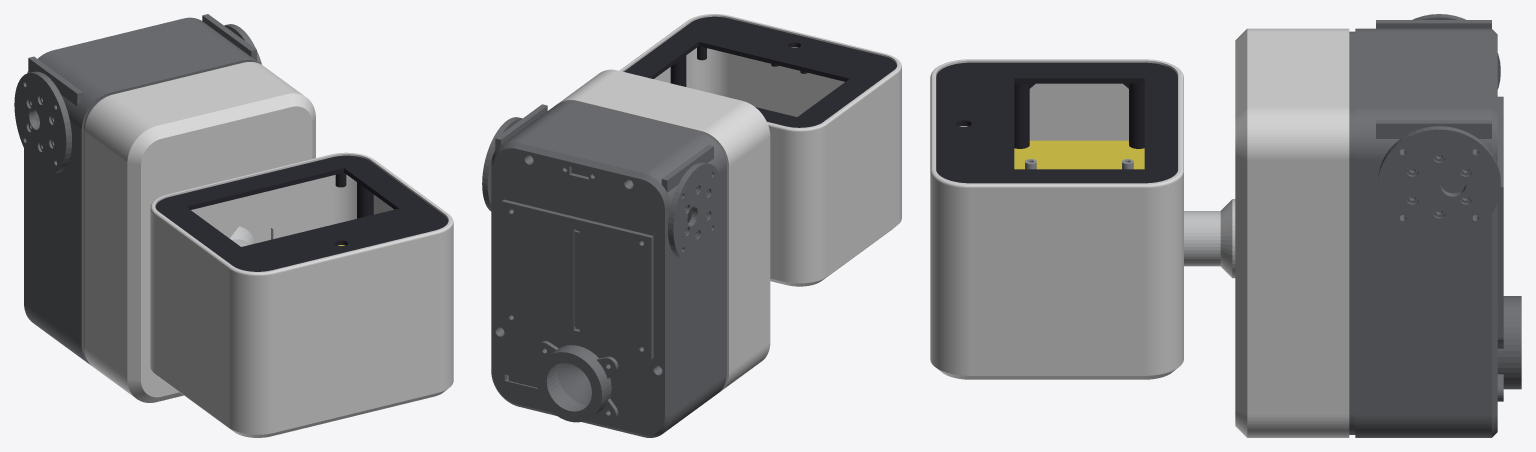
File: montagem.glb
3 views of the same model, side by side, from view 1: azimuth 30°, elevation 25°; view 2: azimuth 150°, elevation 25°; view 3: azimuth 270°, elevation 25° (orthographic). The views are drawn at different scales.
Visible parts, largest first — view 1: cabeca-corpo-0, tronco-0, base-rodas-0, cabeca-face-0, flange-motor-1; view 2: base-rodas-0, cabeca-corpo-0, tampa-bateria-0, tronco-0, cabeca-face-0, flange-motor-1, capa-esfera-0, flange-motor-0, deck-0; view 3: cabeca-corpo-0, base-rodas-0, tronco-0, cabeca-face-0, flange-motor-0, quadro-cabeca-0, tubo-pescoco-0, deck-0, capa-esfera-0, tampa-bateria-0.
Part boxes in pixels (<box>): cabeca-corpo-0: <box>150,152,453,437</box>; tronco-0: <box>84,62,315,402</box>; base-rodas-0: <box>24,14,260,365</box>; cabeca-face-0: <box>155,155,448,271</box>; flange-motor-1: <box>14,71,71,174</box>; base-rodas-0: <box>491,101,726,437</box>; cabeca-corpo-0: <box>619,14,901,286</box>; tampa-bateria-0: <box>501,199,653,359</box>; tronco-0: <box>558,69,770,391</box>; cabeca-face-0: <box>624,16,896,127</box>; flange-motor-1: <box>668,162,722,260</box>; capa-esfera-0: <box>536,341,618,422</box>; flange-motor-0: <box>482,117,522,211</box>; deck-0: <box>565,102,726,374</box>; cabeca-corpo-0: <box>930,59,1183,379</box>; base-rodas-0: <box>1355,20,1497,437</box>; tronco-0: <box>1235,28,1349,437</box>; cabeca-face-0: <box>936,62,1177,183</box>; flange-motor-0: <box>1378,126,1500,240</box>; quadro-cabeca-0: <box>1014,140,1144,169</box>; tubo-pescoco-0: <box>1184,199,1235,278</box>; deck-0: <box>1349,31,1355,434</box>; capa-esfera-0: <box>1497,296,1521,401</box>; tampa-bateria-0: <box>1497,96,1503,337</box>.
Bounding box in the file's own units: 152 × 182 × 298.
